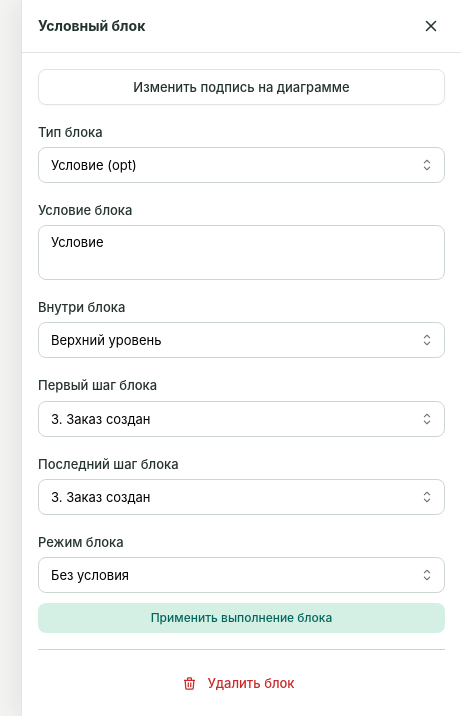
Test: CanvasInspector › shows a local error without saving a one-step alt
Select "Ветвление (alt/else)" in the dropdown labelled "Тип блока" at (242, 165), box [38,147,445,183]
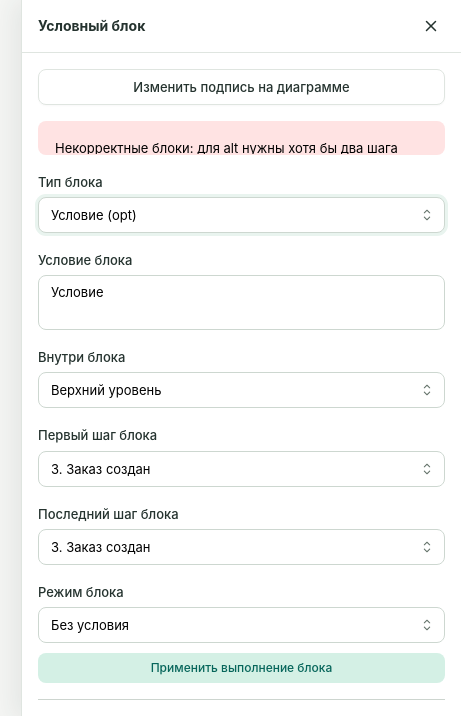
expect the message shows "хотя бы два шага": met, box [55,140,398,156]
